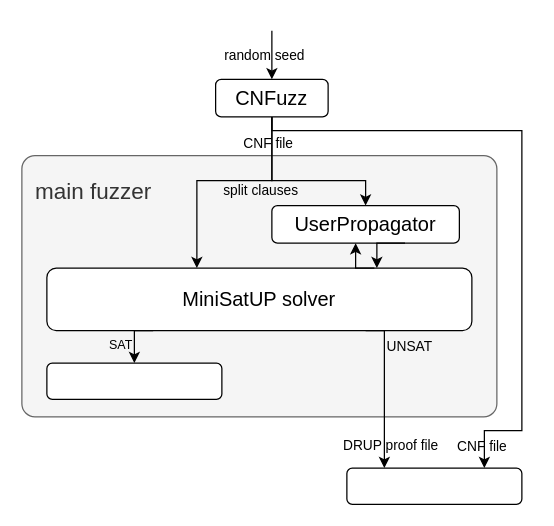
Image size: 554x526. Some labels were removed from this diagram. Each missing label, with the centre of its shape:
DRUP checker: point (434, 485)
model checker: point (134, 380)
